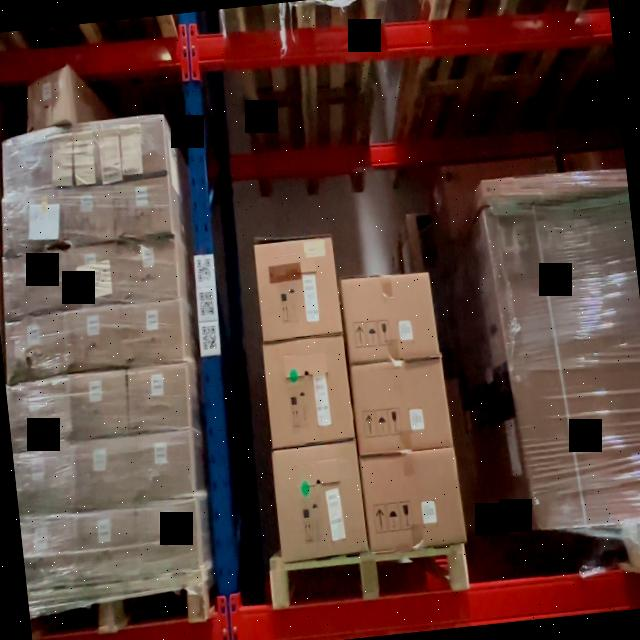box: (272, 442, 367, 558), (362, 448, 466, 550), (263, 336, 354, 446), (352, 358, 452, 454), (253, 237, 341, 341), (344, 270, 438, 362), (138, 502, 203, 574), (128, 364, 194, 432), (132, 432, 194, 500), (72, 439, 132, 509), (19, 516, 76, 589), (7, 382, 70, 448), (77, 512, 137, 581), (100, 118, 168, 178), (13, 448, 74, 514), (68, 371, 128, 438), (6, 316, 68, 380), (3, 251, 65, 314), (64, 307, 124, 371), (119, 238, 180, 300), (124, 301, 184, 364), (114, 179, 174, 239), (61, 245, 120, 306), (5, 192, 64, 252), (4, 136, 66, 192), (60, 186, 116, 244), (58, 126, 106, 185), (24, 71, 74, 127)
